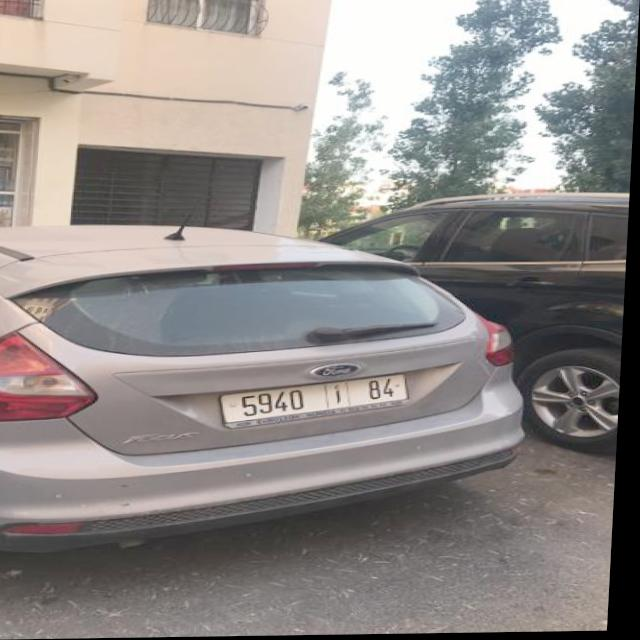License-Plate: (227, 377, 413, 428)
